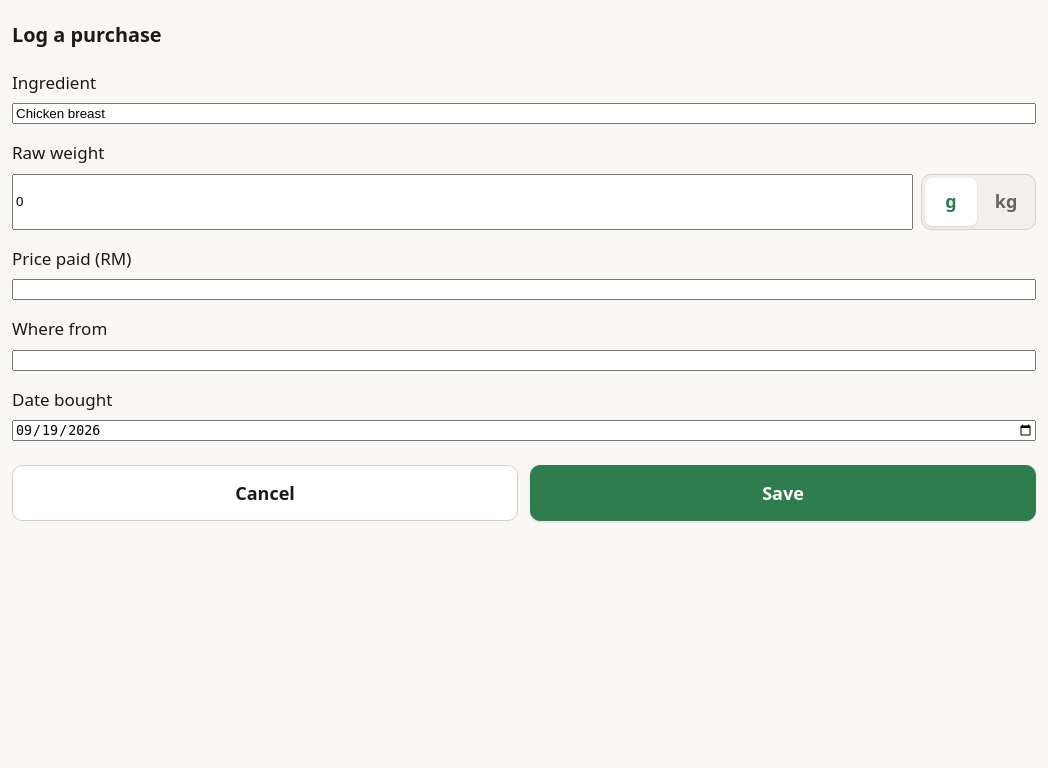
Test: AddBatchForm creating › rejects a negative price
Replace the text in the number field labelled "Raw weight" with "1000" at (462,202), box 12,174 -> 913,230
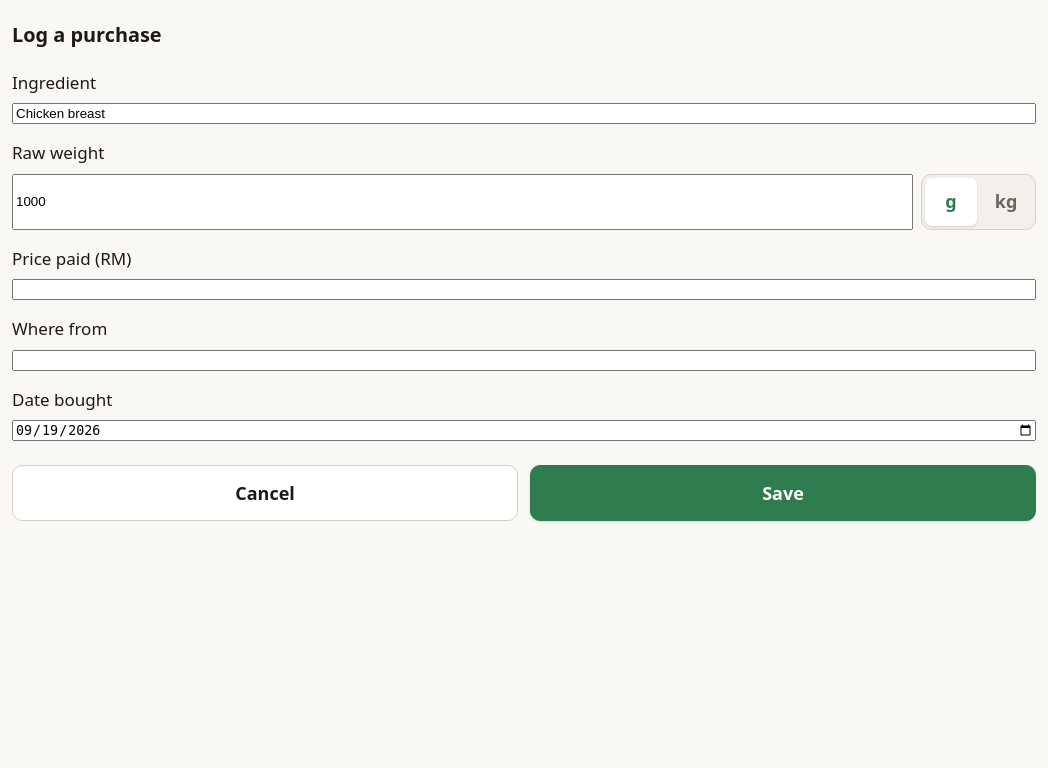
Type "-3" into the number field labelled "Price paid (RM)" at (524,290), box 12,279 -> 1036,300
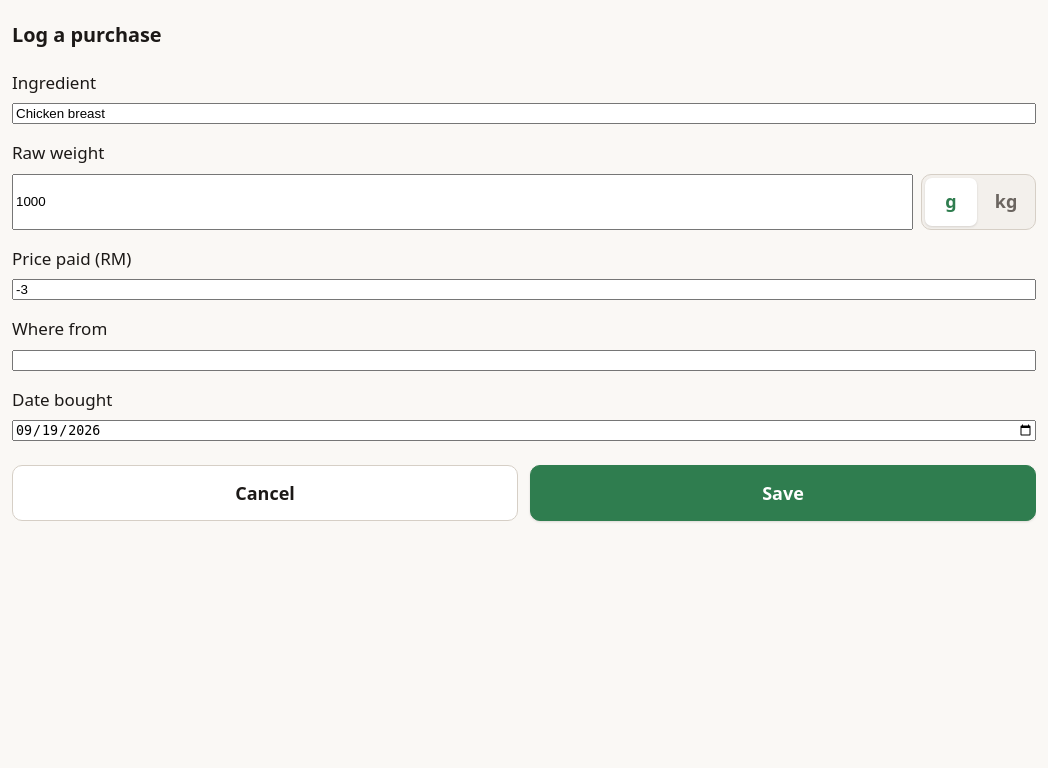
Click the button "Save" at (783,493), box 530,465 -> 1036,521
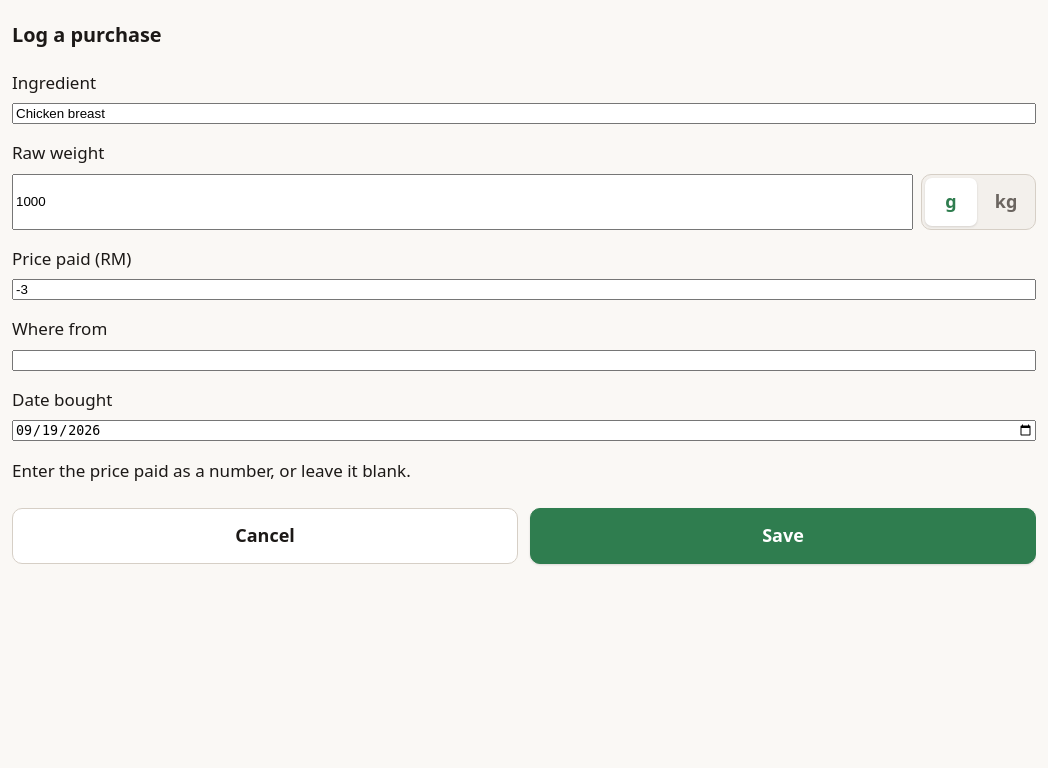
expect the message shows "price": met, box 12,459 -> 411,482
